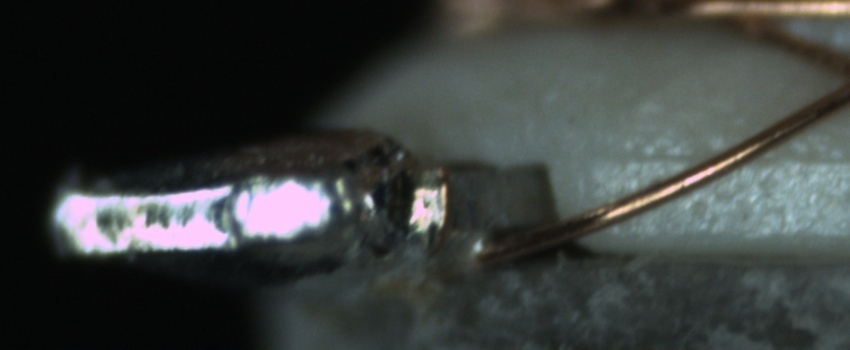DL: (594, 127, 849, 191)
TE: (424, 155, 458, 246)
